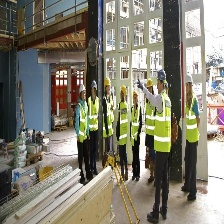helmet: (155, 67, 167, 92), (184, 73, 194, 93), (119, 85, 128, 101), (79, 82, 87, 99), (104, 78, 111, 94), (91, 79, 97, 94), (133, 89, 139, 104), (146, 81, 154, 92)
person: (152, 68, 172, 224), (183, 72, 201, 206), (143, 78, 157, 189), (77, 81, 90, 187), (117, 83, 130, 184), (87, 79, 100, 178), (102, 76, 115, 171), (130, 90, 142, 183)
vest: (155, 95, 171, 158), (185, 94, 201, 149), (77, 98, 89, 149), (117, 99, 129, 146), (103, 92, 114, 141), (145, 90, 155, 141), (131, 103, 141, 148), (90, 96, 99, 137)
